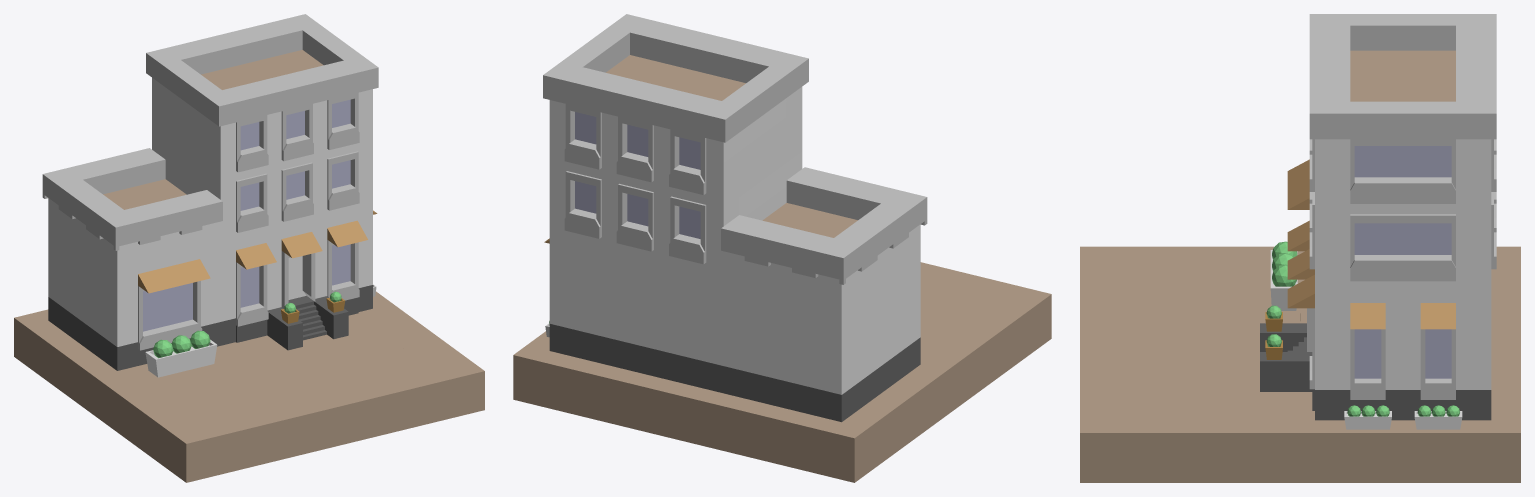
Rendered from building_apartment_grey.fbx.
3 views of the same model, side by side, from view 1: azimuth 30°, elevation 25°; view 2: azimuth 150°, elevation 25°; view 3: azimuth 270°, elevation 25° (orthographic). The views are drawn at different scales.
Visible parts, largest first — view 1: Cube.000; view 2: Cube.000; view 3: Cube.000.
Boxes of the visible parts, x1=… form: Cube.000: x1=14, y1=14, x2=484, y2=482; Cube.000: x1=513, y1=14, x2=1051, y2=482; Cube.000: x1=1080, y1=14, x2=1520, y2=482.
Size of the model in its own units: 1600 by 1439 by 1600.
